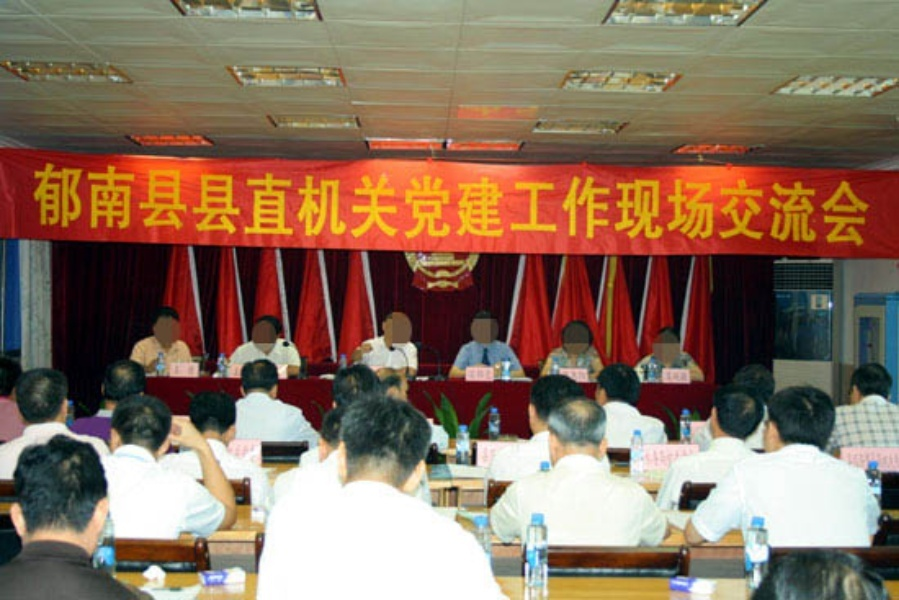text: (33, 159, 48, 251), (49, 159, 64, 251), (65, 159, 80, 251), (81, 159, 96, 251), (97, 159, 112, 251), (113, 159, 128, 251), (129, 159, 144, 251), (145, 159, 160, 251), (161, 159, 176, 251), (177, 159, 192, 251), (193, 159, 208, 251), (209, 159, 224, 251), (225, 159, 240, 251), (241, 159, 256, 251), (257, 159, 272, 251), (273, 159, 288, 251), (289, 159, 304, 251), (305, 159, 320, 251), (321, 159, 336, 251), (337, 159, 352, 251), (353, 159, 368, 251), (369, 159, 384, 251), (385, 159, 400, 251), (401, 159, 416, 251), (417, 159, 432, 251), (433, 159, 448, 251), (449, 159, 464, 251), (465, 159, 480, 251), (481, 159, 496, 251), (497, 159, 512, 251), (513, 159, 528, 251), (529, 159, 544, 251), (545, 159, 560, 251), (561, 159, 576, 251), (577, 159, 592, 251), (593, 159, 608, 251), (609, 159, 624, 251), (625, 159, 640, 251), (641, 159, 656, 251), (657, 159, 672, 251), (673, 159, 688, 251), (689, 159, 704, 251), (705, 159, 720, 251), (721, 159, 736, 251), (737, 159, 752, 251), (753, 159, 768, 251), (769, 159, 784, 251), (785, 159, 800, 251), (801, 159, 816, 251), (817, 159, 832, 251), (833, 159, 848, 251), (849, 159, 864, 251), (865, 159, 870, 251), (241, 445, 256, 463), (657, 448, 672, 466), (673, 448, 688, 466), (849, 452, 864, 470), (865, 452, 880, 470), (881, 452, 896, 470), (483, 448, 496, 463), (646, 448, 656, 466), (231, 445, 240, 463), (177, 365, 192, 375), (673, 372, 689, 381), (563, 370, 576, 381), (468, 370, 480, 380), (481, 370, 492, 380), (577, 370, 587, 381), (689, 448, 695, 466), (666, 372, 672, 381), (257, 445, 259, 463), (174, 365, 176, 375), (193, 365, 195, 375), (847, 452, 848, 470), (897, 452, 898, 470)
